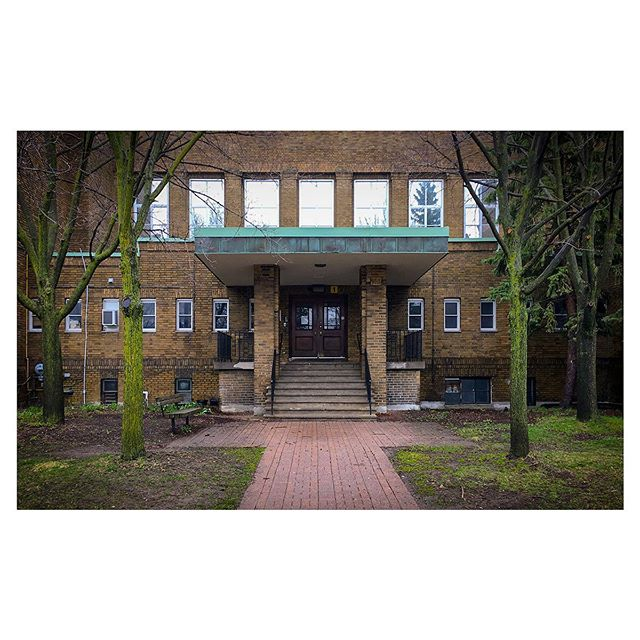building: (16, 131, 624, 407)
tree: (443, 128, 620, 461), (9, 136, 186, 469)
